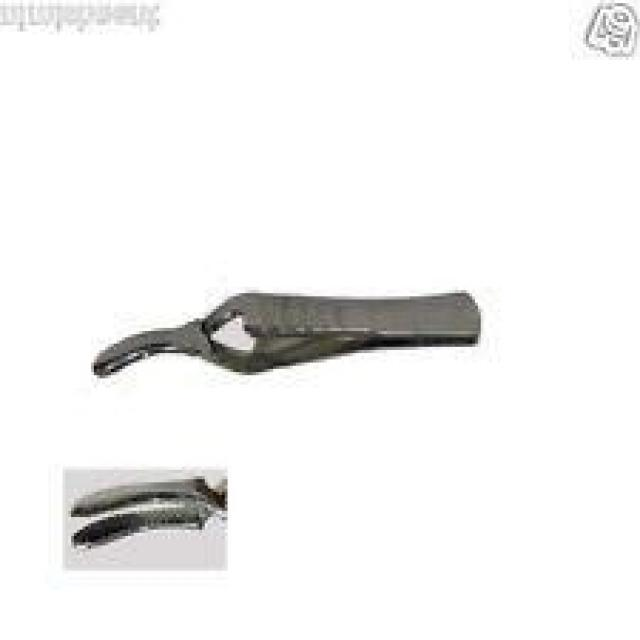Bulldog: (91, 290, 484, 382), (66, 479, 228, 555)
